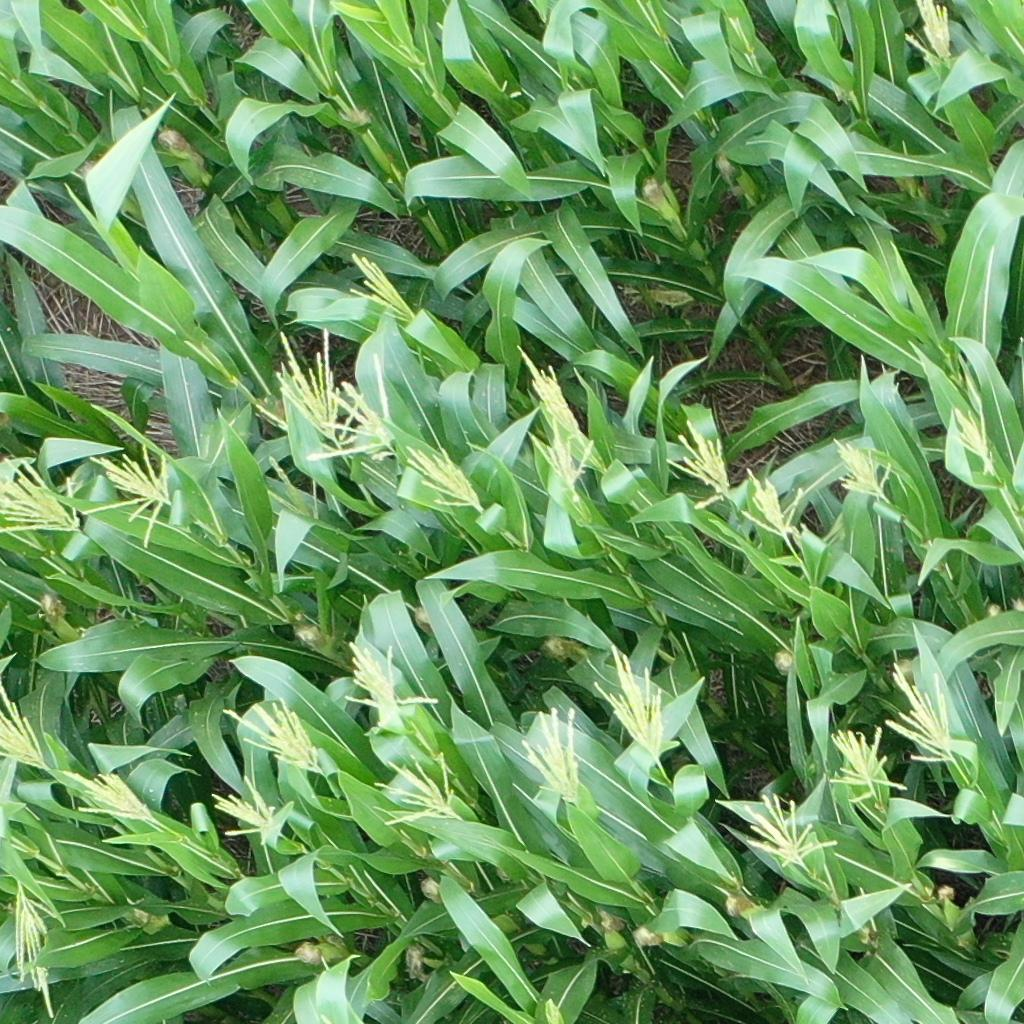Tassel: (256, 327, 362, 448), (85, 443, 175, 548), (310, 354, 397, 462), (343, 640, 439, 736), (591, 643, 669, 756), (743, 793, 838, 870), (885, 662, 957, 762), (220, 699, 319, 771), (12, 879, 61, 1019), (826, 725, 910, 805), (373, 750, 461, 825), (517, 709, 584, 806), (1, 458, 83, 534), (516, 346, 583, 438), (665, 421, 732, 513), (63, 766, 158, 825), (404, 442, 483, 512), (738, 467, 804, 540), (209, 774, 278, 838), (350, 253, 415, 320), (830, 438, 895, 502), (1, 683, 46, 770), (527, 434, 595, 489), (904, 1, 954, 65), (952, 406, 992, 464), (543, 996, 561, 1024)
